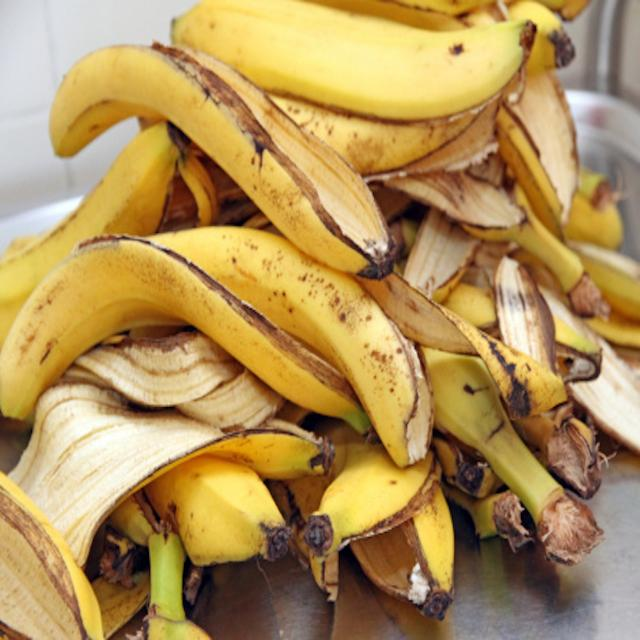banana_peel: (11, 13, 632, 622), (35, 8, 487, 341)
